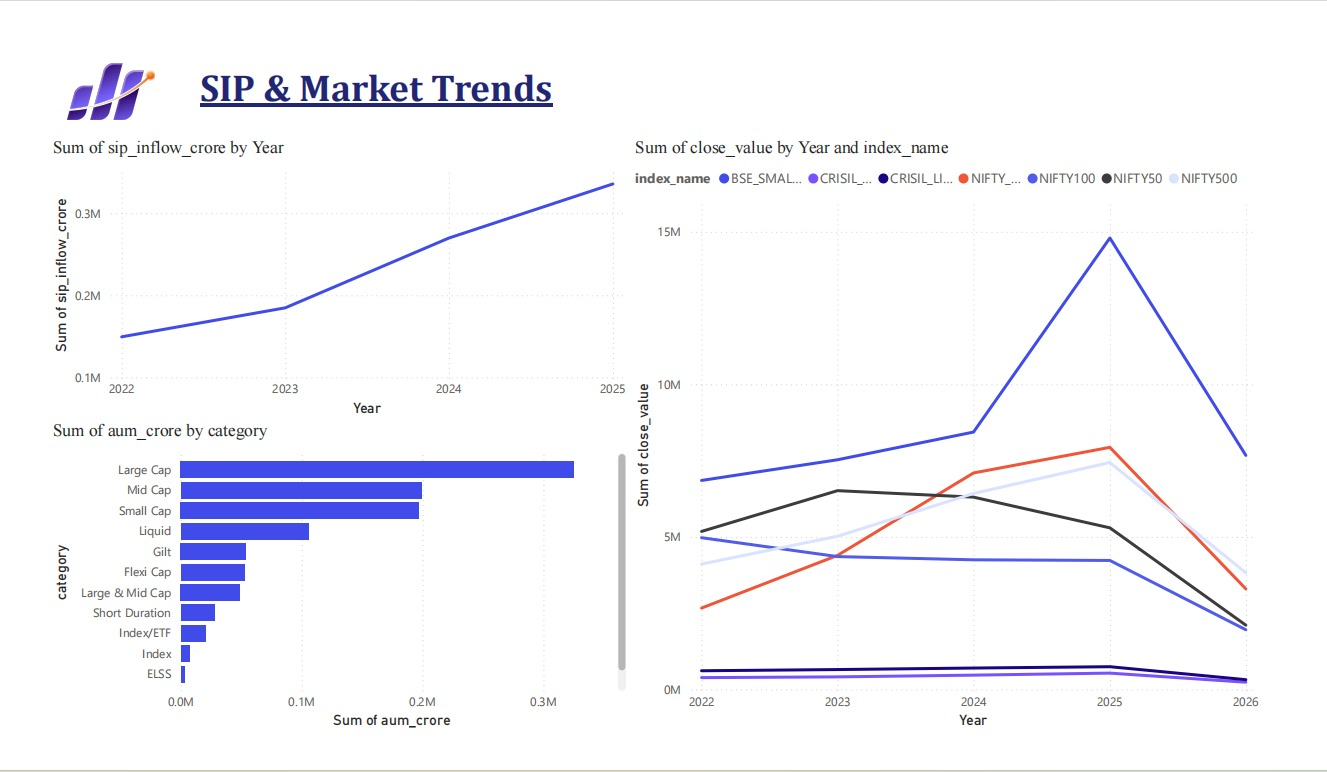

The page's visual inventory and layout, read from the dashboard file:
{"tool":"powerbi","page":{"name":"SIP & Market Trends","canvas":[1280,720],"ordinal":3},"visuals":[{"type":"lineChart","fields":{"Category":["clean_monthly_sip.month.Variation.Date Hierarchy.Year","clean_monthly_sip.month.Variation.Date Hierarchy.Quarter","clean_monthly_sip.month.Variation.Date Hierarchy.Month","clean_monthly_sip.month.Variation.Date Hierarchy.Day"],"Y":["Sum(clean_monthly_sip.sip_inflow_crore)"]},"box":[23.6,113.4,582.9,282],"z":0},{"type":"barChart","fields":{"Y":["Sum(clean_scheme_perf.aum_crore)"],"Category":["clean_scheme_perf.category"]},"box":[23.6,395.4,582.9,311.9],"z":1},{"type":"lineChart","fields":{"Category":["clean_benchmark_indices.date.Variation.Date Hierarchy.Year","clean_benchmark_indices.date.Variation.Date Hierarchy.Quarter","clean_benchmark_indices.date.Variation.Date Hierarchy.Month","clean_benchmark_indices.date.Variation.Date Hierarchy.Day"],"Y":["Sum(clean_benchmark_indices.close_value)"],"Series":["clean_benchmark_indices.index_name"]},"box":[606.5,113.4,631.7,593.9],"z":2},{"type":"image","box":[23.6,14.2,107.1,104],"z":3},{"type":"textbox","box":[130.8,36.2,1107.5,59.9],"z":4}]}

Visuals, with their boxes on the page's 1280x720 design canvas (x1, y1, x2, y2). These are canvas units, not pixel positions in the 1327x772 screenshot, which may show the page scaled, cropped or inside an application window:
lineChart - clean_monthly_sip.month.Variation.Date Hierarchy.Year x clean_monthly_sip.month.Variation.Date Hierarchy.Quarter: detection(24, 113, 606, 395)
barChart - Sum(clean_scheme_perf.aum_crore) x clean_scheme_perf.category: detection(24, 395, 606, 707)
lineChart - clean_benchmark_indices.date.Variation.Date Hierarchy.Year x clean_benchmark_indices.date.Variation.Date Hierarchy.Quarter: detection(606, 113, 1238, 707)
image: detection(24, 14, 131, 118)
textbox: detection(131, 36, 1238, 96)
